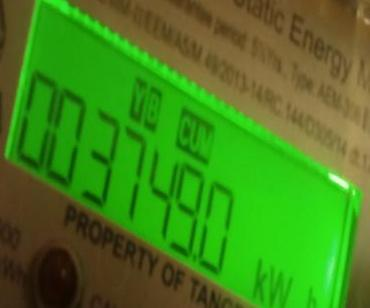.: (249, 252, 328, 308)
1: (15, 69, 59, 171), (48, 85, 89, 187), (200, 174, 238, 254)
4: (82, 102, 123, 206)
5: (149, 150, 177, 241)
8: (112, 125, 148, 219)
:: (170, 163, 209, 251)
